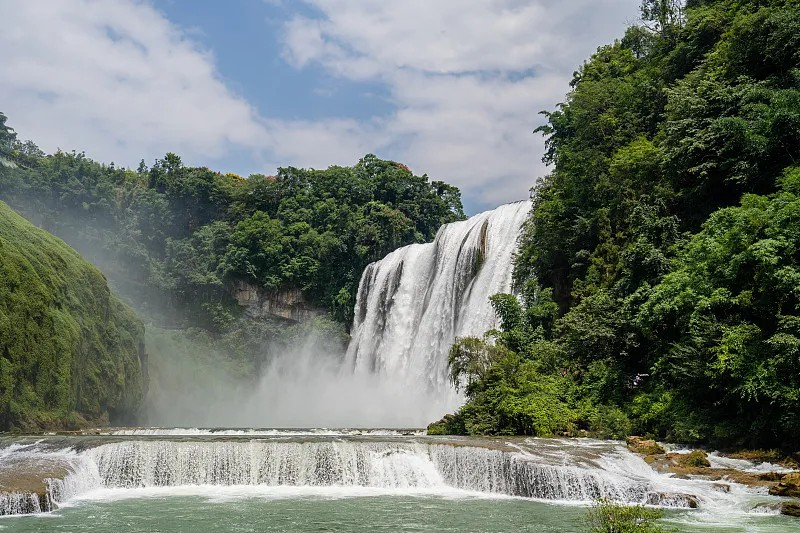Huangguoshu: (348, 201, 526, 429)
